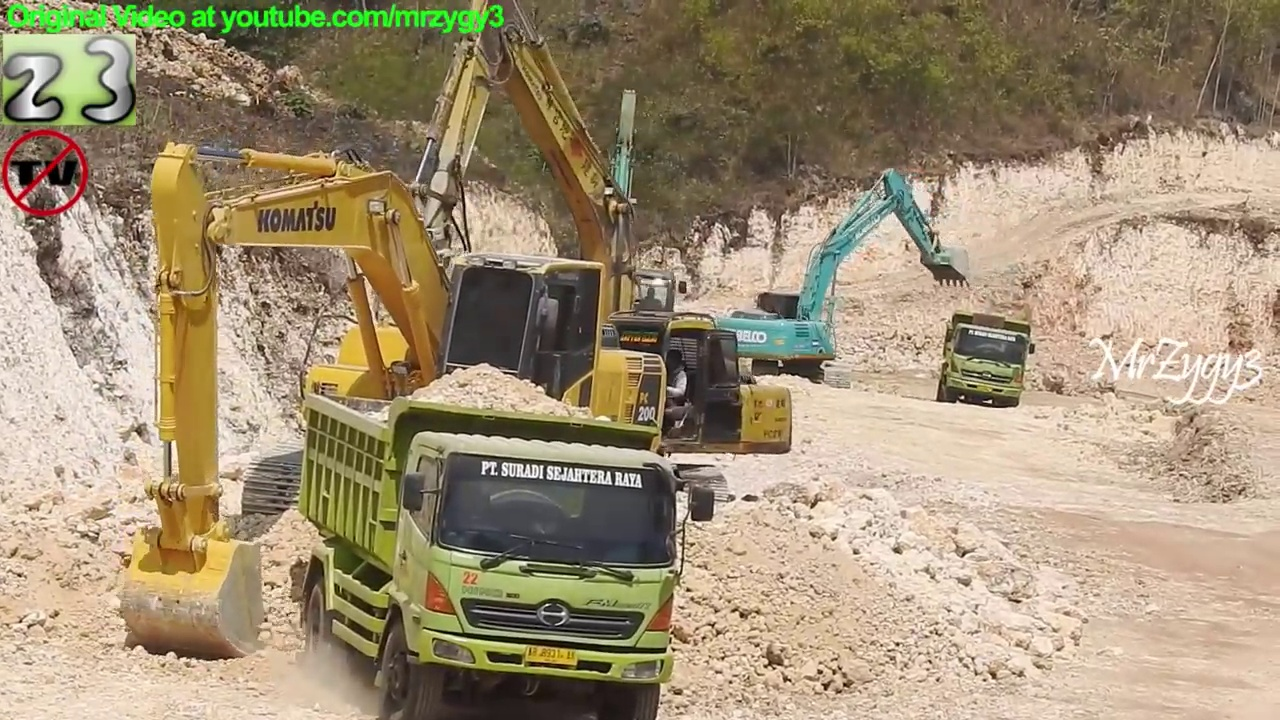excavator: (110, 138, 681, 669), (358, 2, 796, 537), (713, 167, 975, 396)
truck: (298, 383, 719, 720), (931, 309, 1041, 416)
